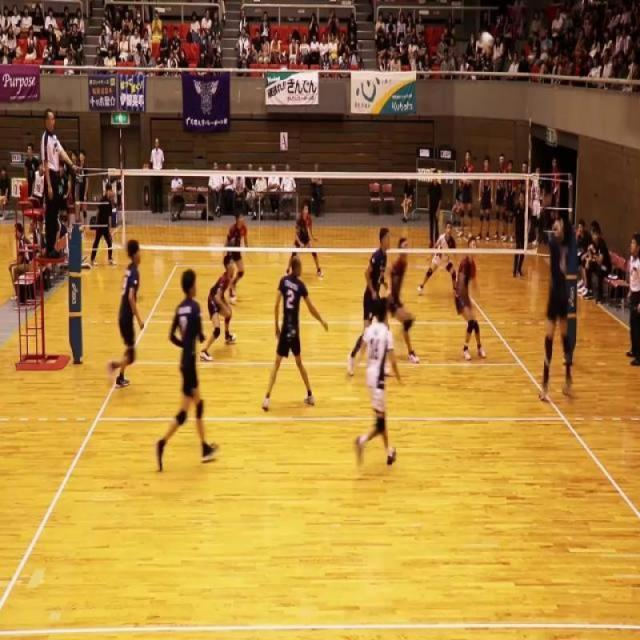volleyball: (480, 30, 495, 52)
